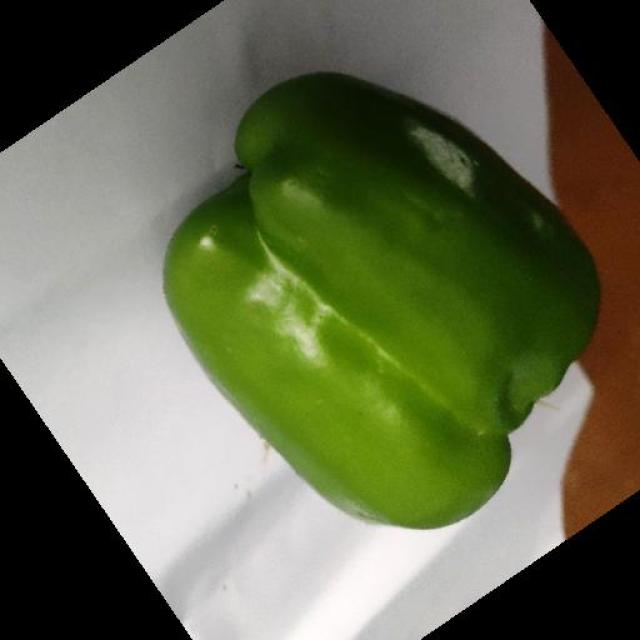Stale_Capsicum: (158, 80, 580, 450)
